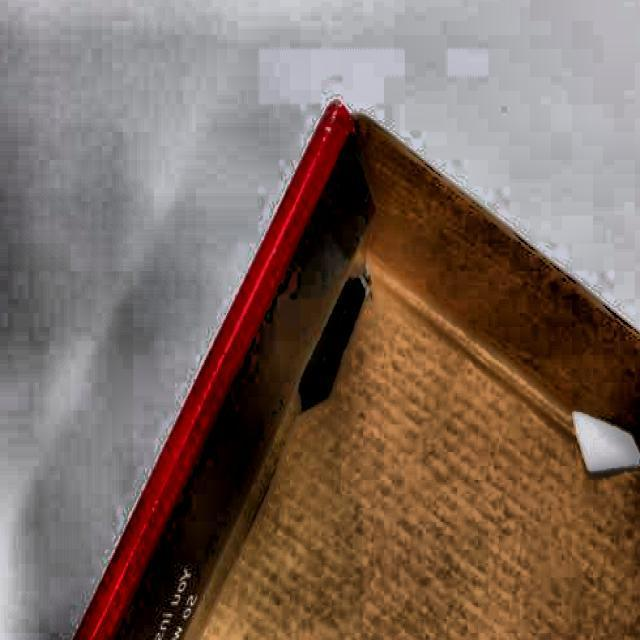cardboard: (42, 99, 640, 640)
